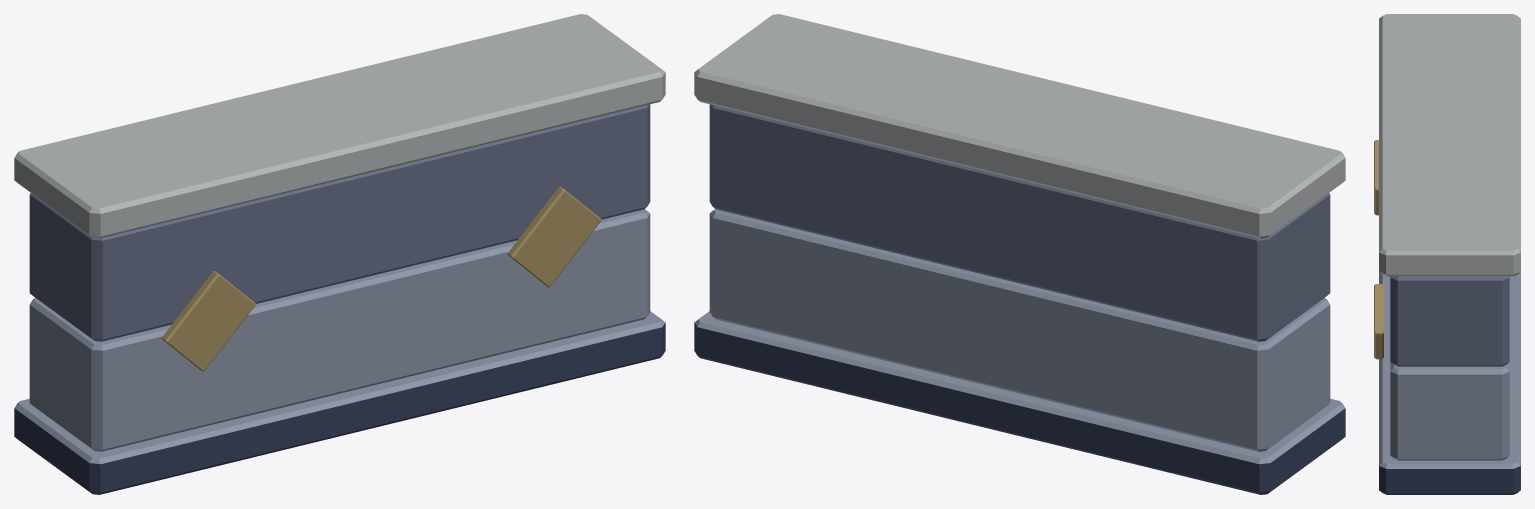
The model's file is wall-straight.glb.
3 views of the same model, side by side, from view 1: azimuth 30°, elevation 25°; view 2: azimuth 150°, elevation 25°; view 3: azimuth 270°, elevation 25° (orthographic). The views are drawn at different scales.
Visible parts, largest first — view 1: wall-straight__body; view 2: wall-straight__body; view 3: wall-straight__body.
Part boxes in pixels (x1,y1,x2,y2): wall-straight__body: [14, 14, 665, 494]; wall-straight__body: [694, 14, 1345, 494]; wall-straight__body: [1374, 14, 1520, 494].
Bounding box in the file's own units: 2 × 0.95 × 0.5175.
